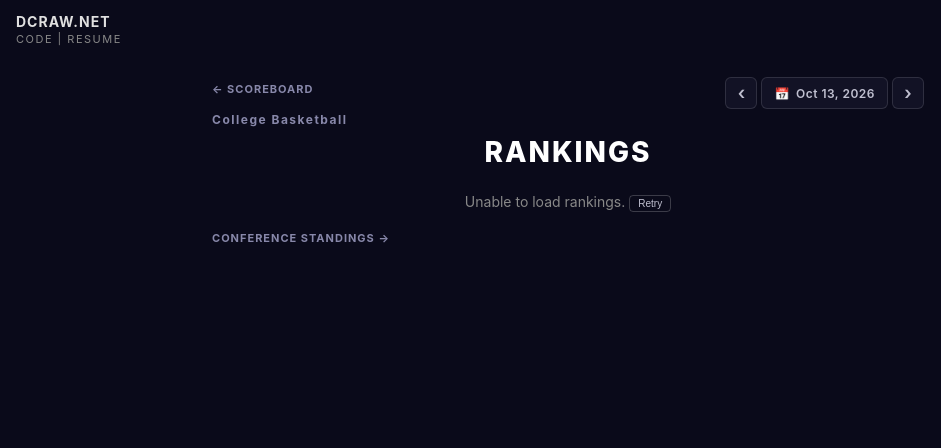
Test: RankingsPage › offers a retry when the request fails
The image size is (941, 448).
Click the button "Retry". click: click(650, 204)
box: [629, 195, 671, 212]
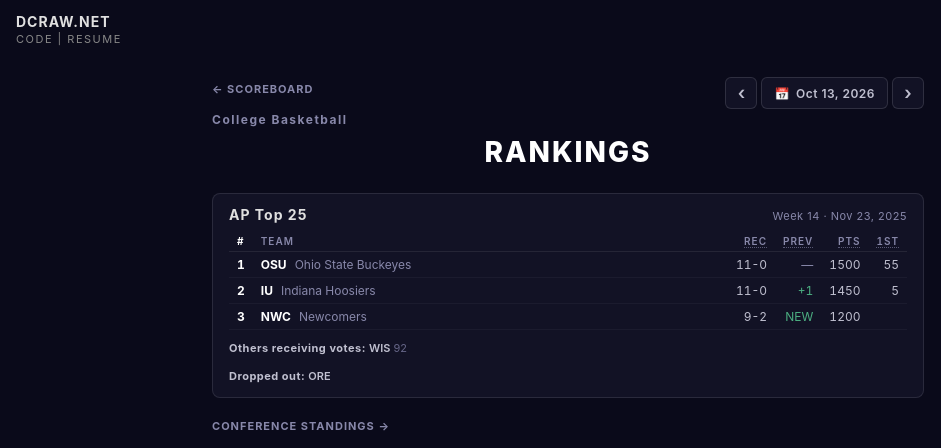
Check: the heading "AP Top 25" is shown, box [229, 206, 307, 223]
